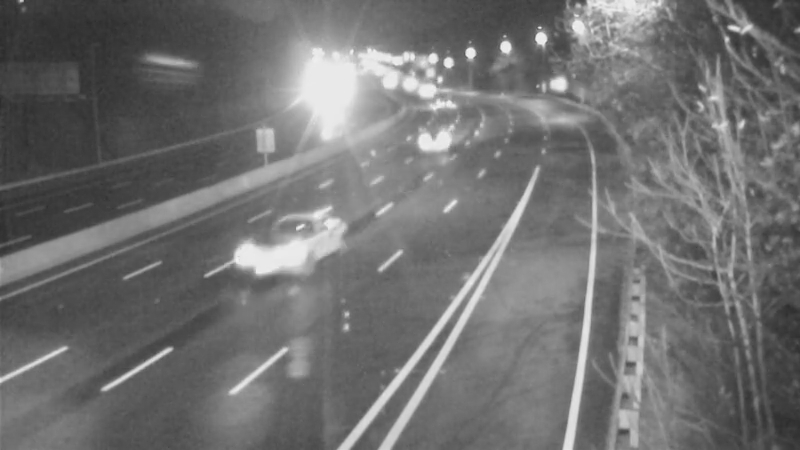vehicle: (240, 211, 320, 291), (382, 62, 432, 112), (400, 68, 450, 118), (417, 76, 467, 126), (407, 115, 457, 165), (299, 70, 349, 120)
